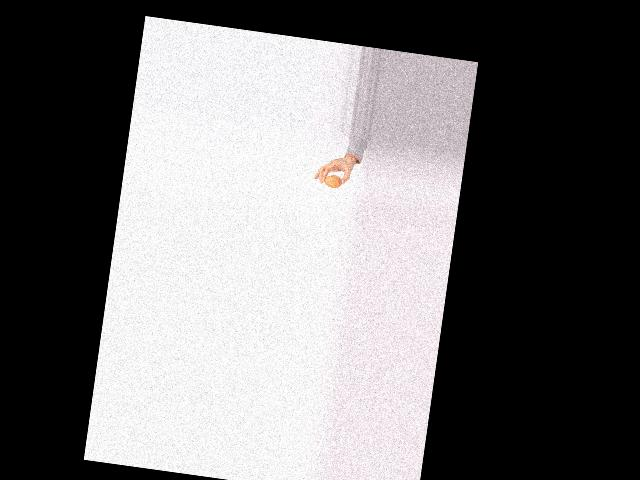egg: (323, 174, 342, 189)
